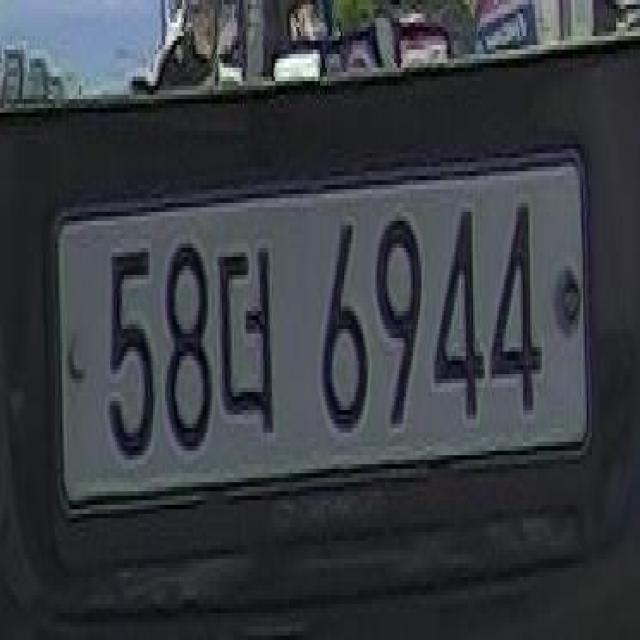4: (428, 188, 487, 434), (489, 186, 546, 432)
5: (101, 238, 155, 470)
6: (312, 206, 371, 434)
8: (158, 228, 216, 454)
9: (374, 195, 424, 427)
deo: (217, 230, 280, 450)
license_plate: (40, 138, 602, 562)
